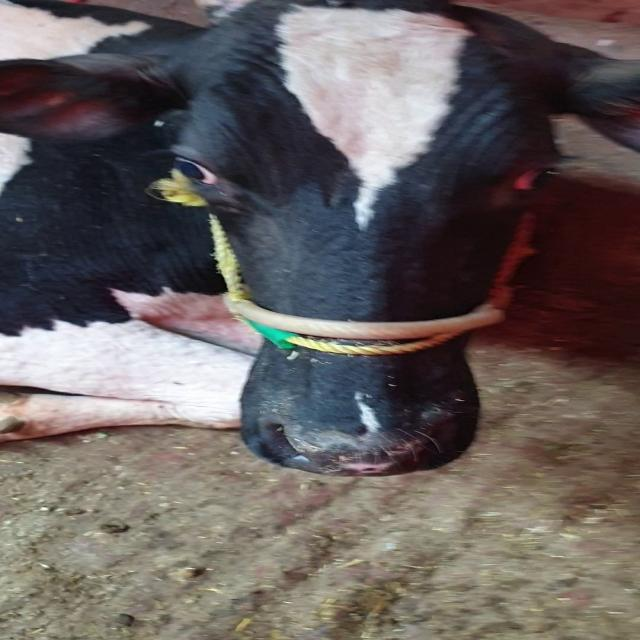cowFace: (135, 6, 558, 484)
